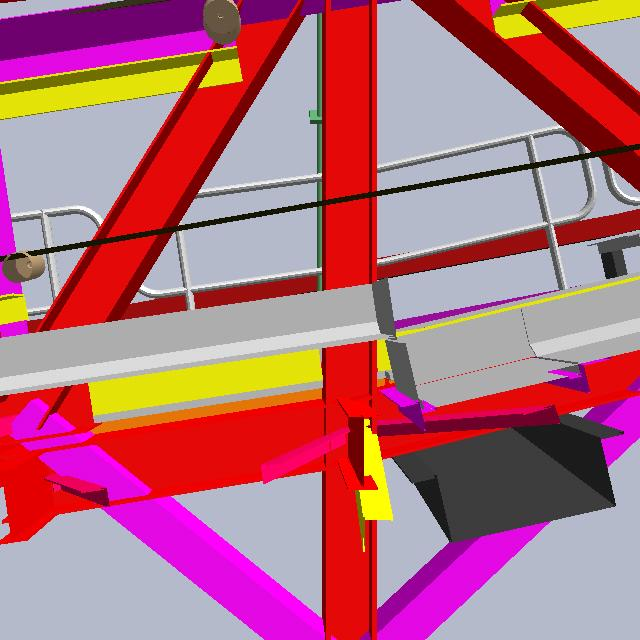Poste: (312, 7, 328, 319)
